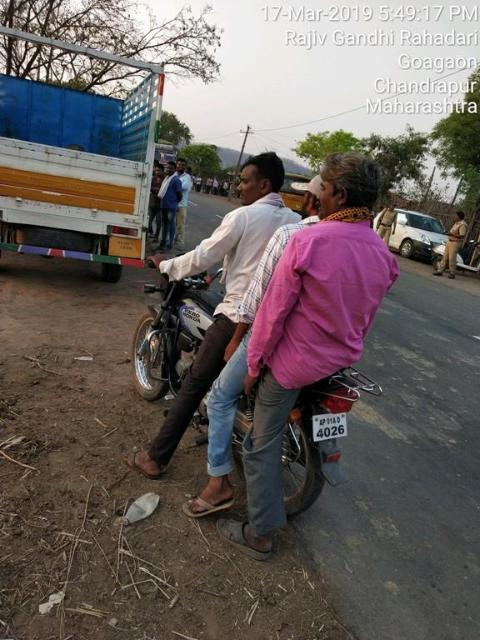motor: (136, 277, 359, 519)
non-helm: (322, 154, 381, 221), (239, 152, 285, 206), (294, 175, 324, 221)
